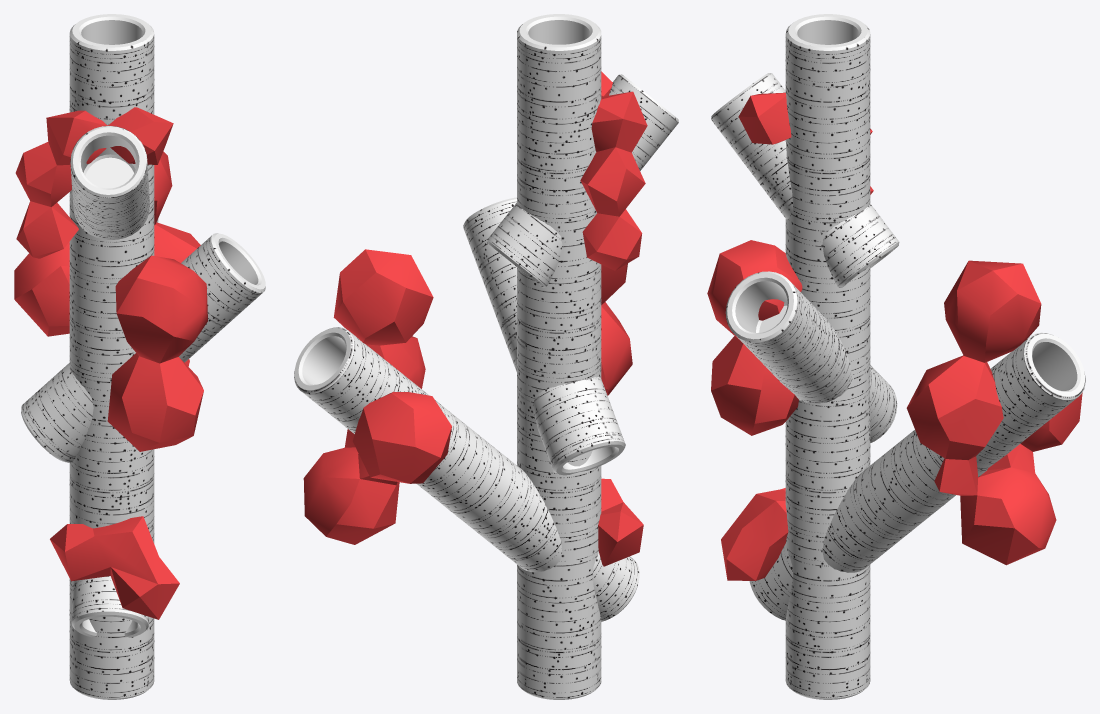
Rendered from treeC6.fbx.
3 views of the same model, side by side, from view 1: azimuth 30°, elevation 25°; view 2: azimuth 150°, elevation 25°; view 3: azimuth 270°, elevation 25° (orthographic).
Parts seen in each view (by area): view 1: Cylinder.018; view 2: Cylinder.018; view 3: Cylinder.018.
Part boxes in pixels (bbox=[...]): Cylinder.018: bbox=[14, 14, 265, 699]; Cylinder.018: bbox=[294, 14, 678, 699]; Cylinder.018: bbox=[707, 14, 1085, 699].
Size of the model in its own units: 209 by 526 by 277.
